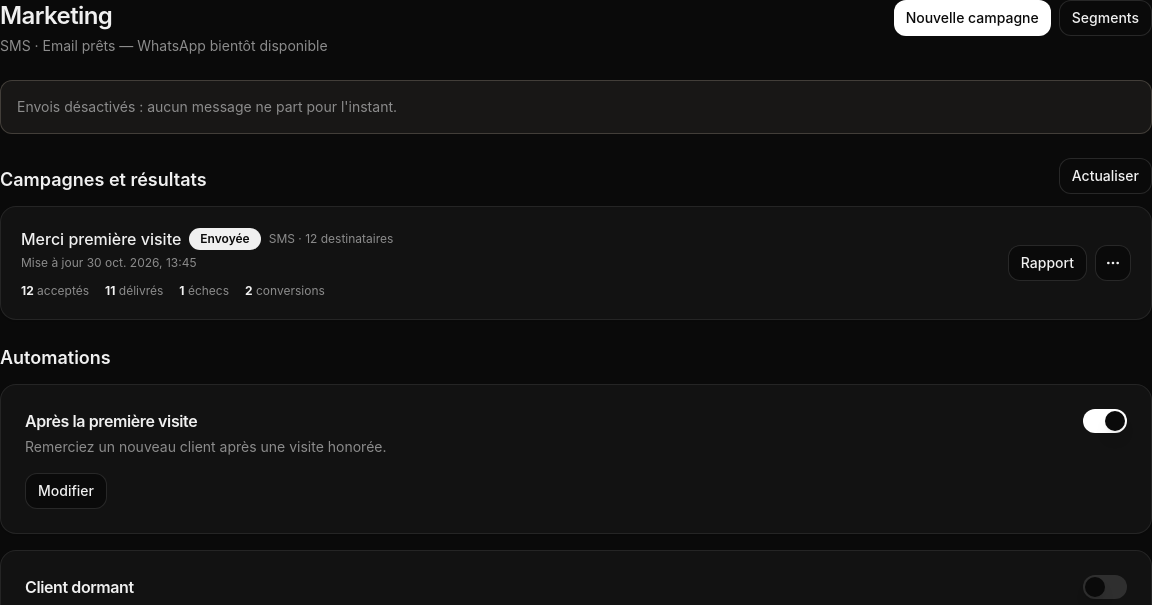
Test: MarketingPage › n’envoie jamais un nombre vide comme 0 : il est refusé avec ses bornes
expect the heading "Marketing" is shown: met, box top-left (0, 0), bottom-right (112, 32)
Click the button "Modifier" below "Après la première visite".
click(66, 491)  # box top-left (25, 473), bottom-right (107, 509)
(page scrolled)
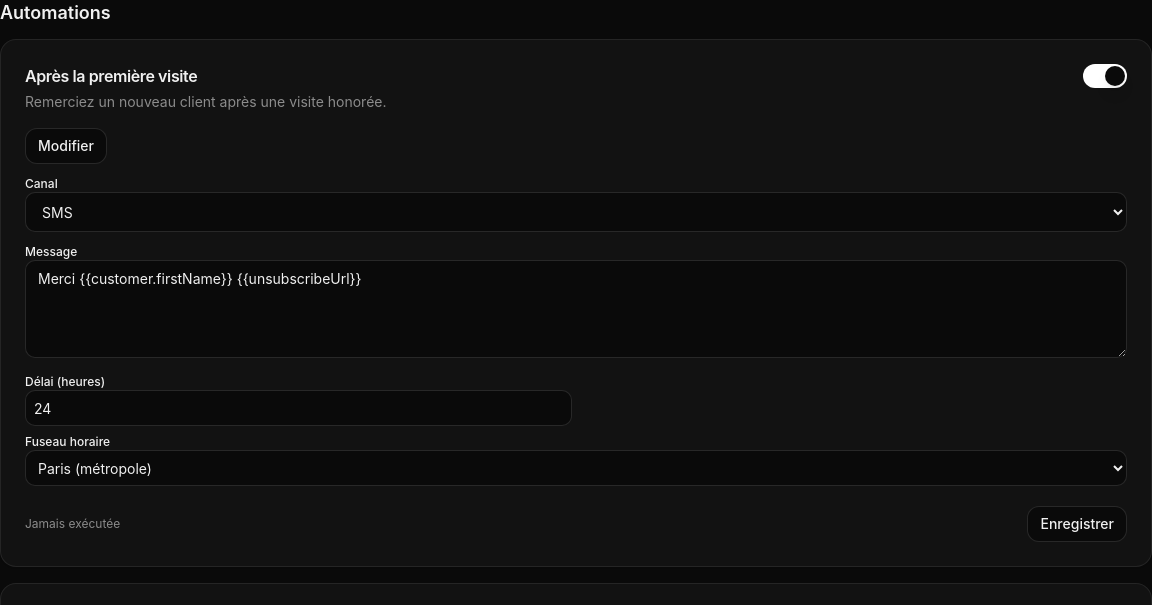
Clear the number field labelled "Délai (heures)" at coordinates (298, 408), box top-left (25, 390), bottom-right (572, 426)
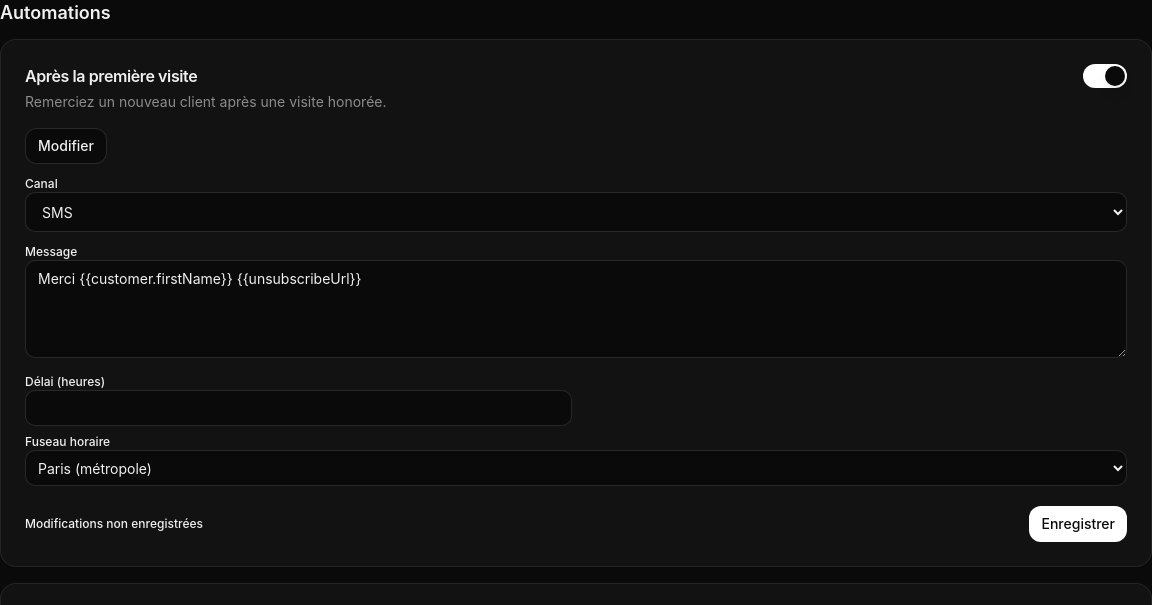
Click the button "Enregistrer".
click(1078, 524)  # box top-left (1030, 506), bottom-right (1127, 542)
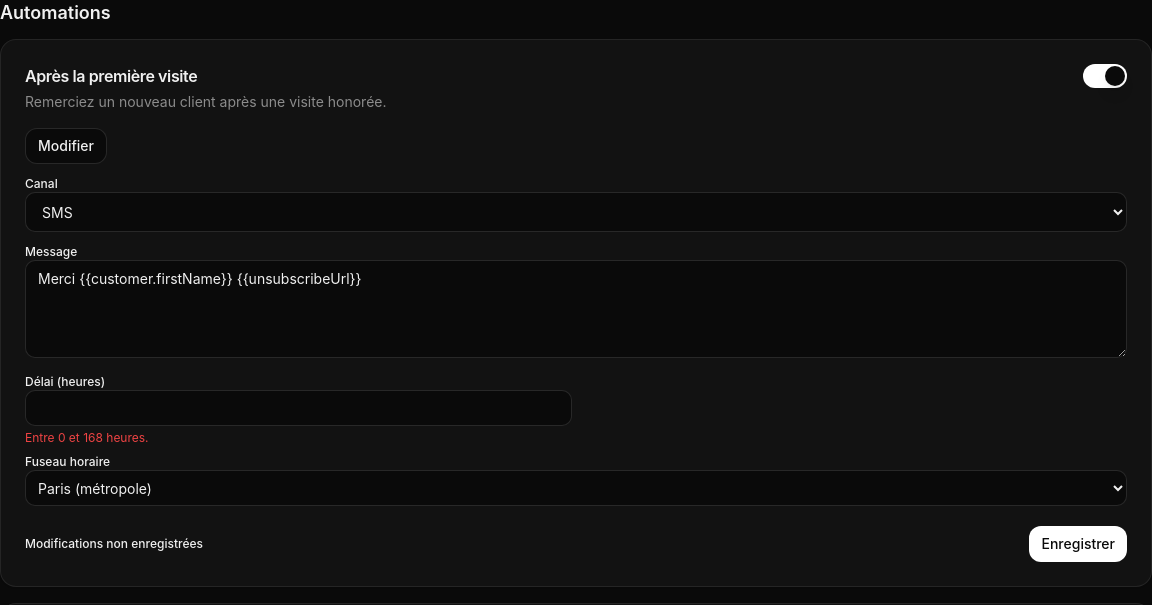
expect the text "Entre 0 et 168 heures." is shown: met, box top-left (25, 430), bottom-right (149, 445)
